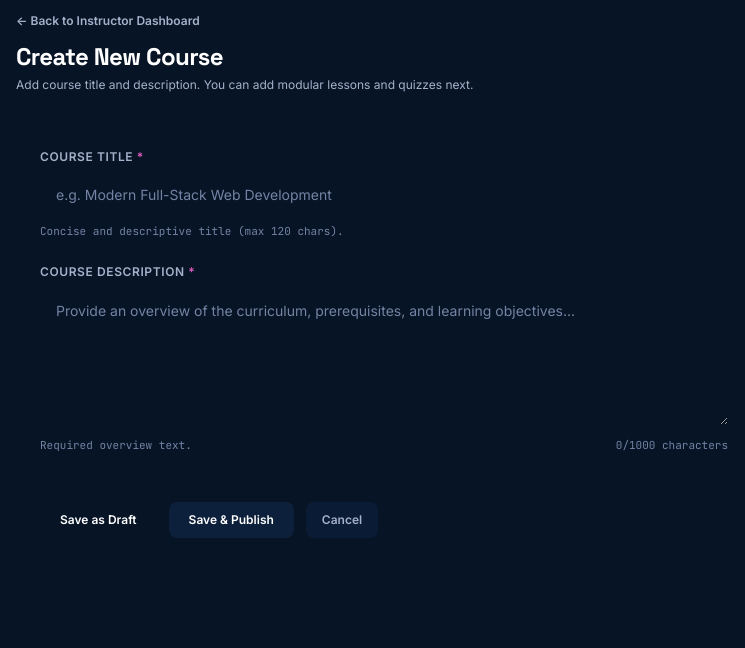
Test: Instructor Components Flow Tests › CourseFormPage Component › validates empty title before submitting
Click the button "Save as Draft".
click(98, 520)  # box [40,502,157,538]
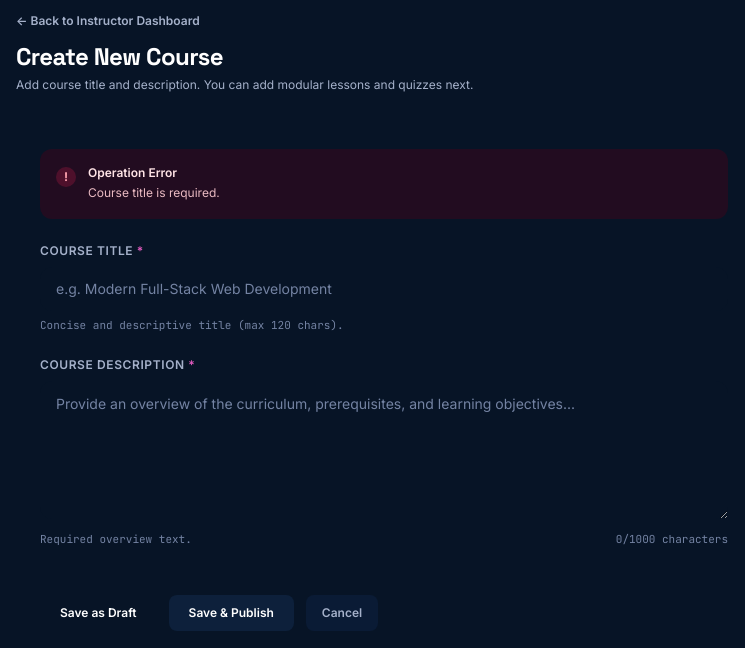
expect the text "Course title is required." is shown: met, box [88,183,220,202]
